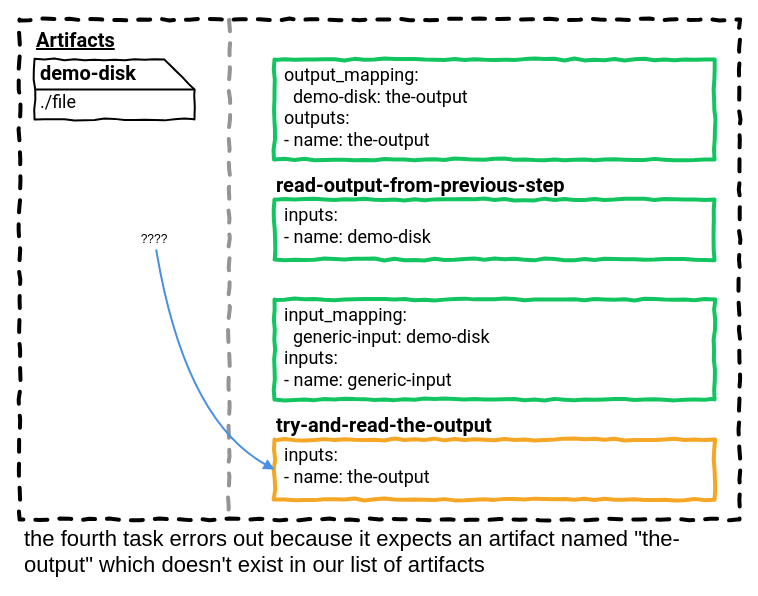
Image size: 758x596. Some labels were removed from this diagram. The box of each missing label's shape, as (x1, y1, x2, y2) in pixels:
create-one-output: (272, 57, 716, 161)
rename-and-read-output: (272, 297, 716, 401)
